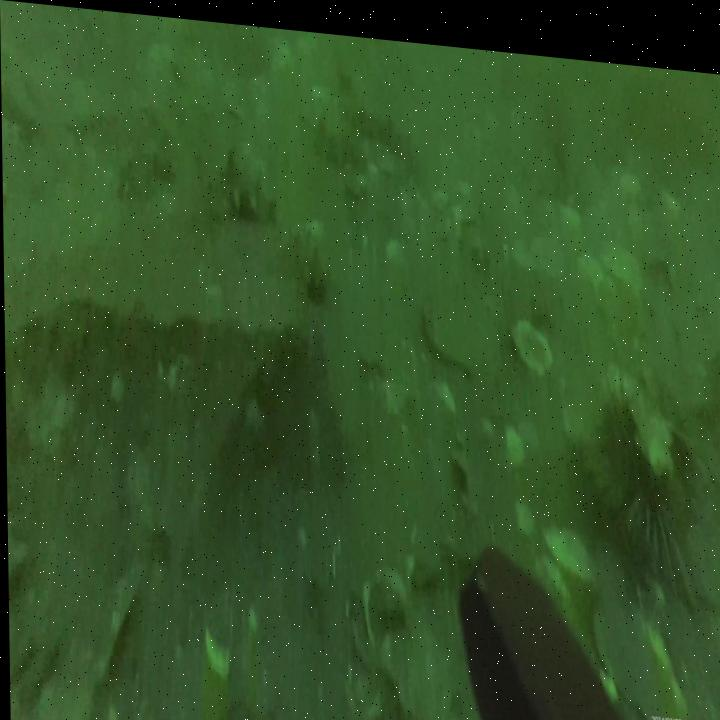echinus: (585, 365, 702, 597)
holothurian: (218, 144, 279, 217)
